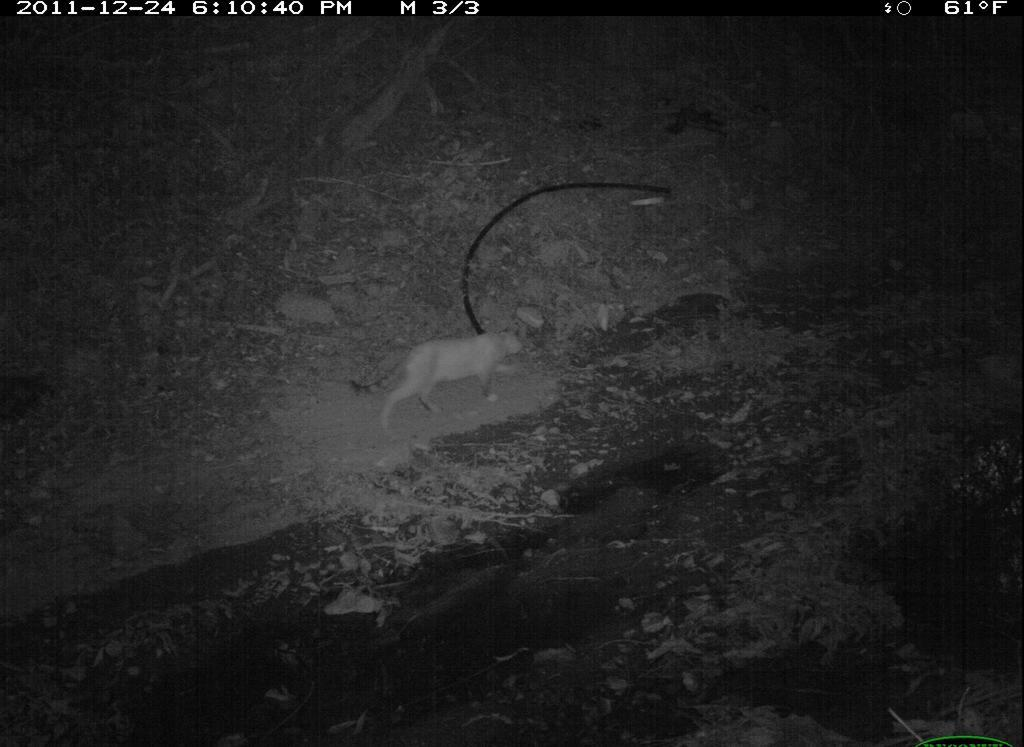cat: (349, 313, 541, 445)
